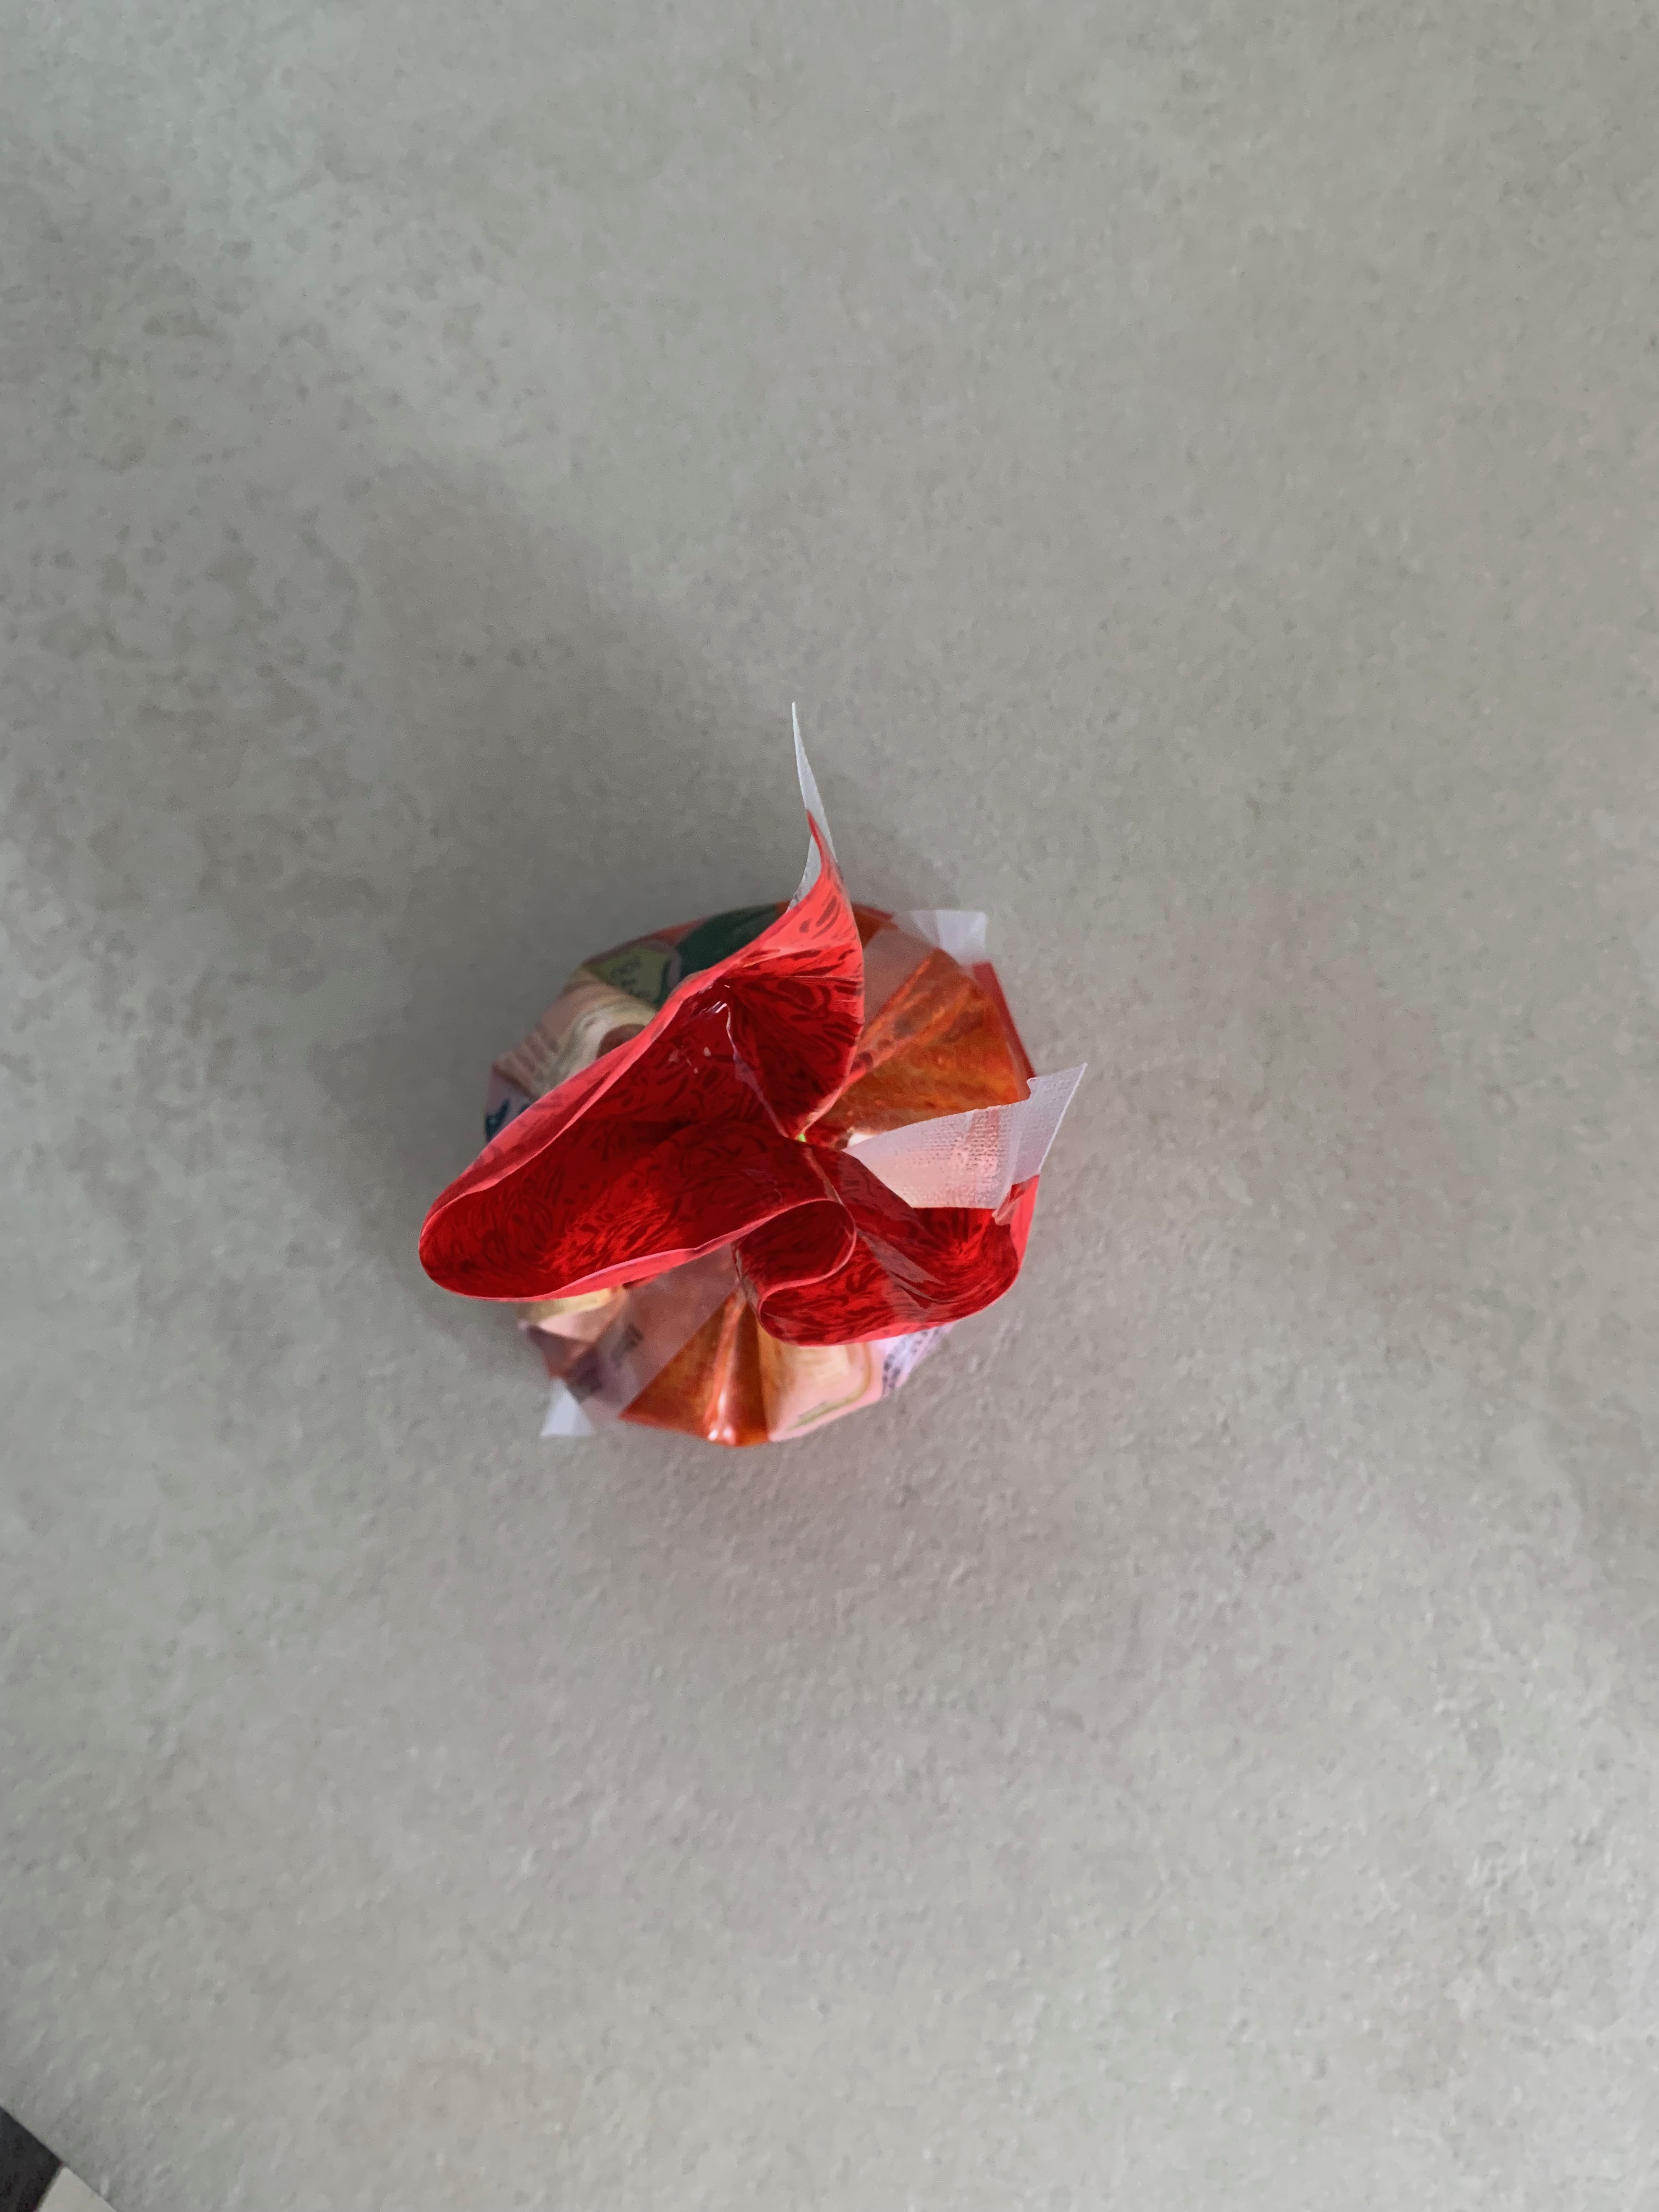kimchi: (420, 881, 1044, 1444)
